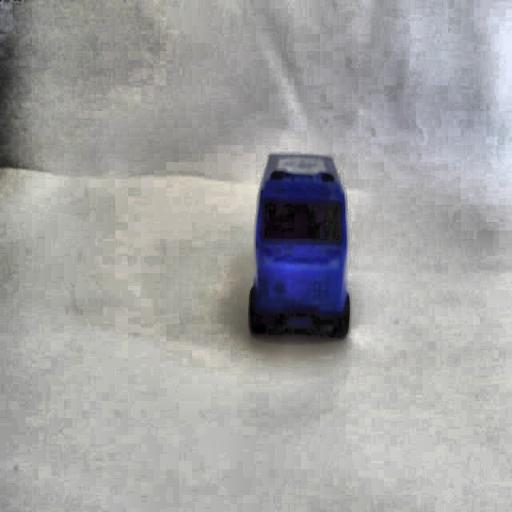police car: (242, 150, 359, 350)
